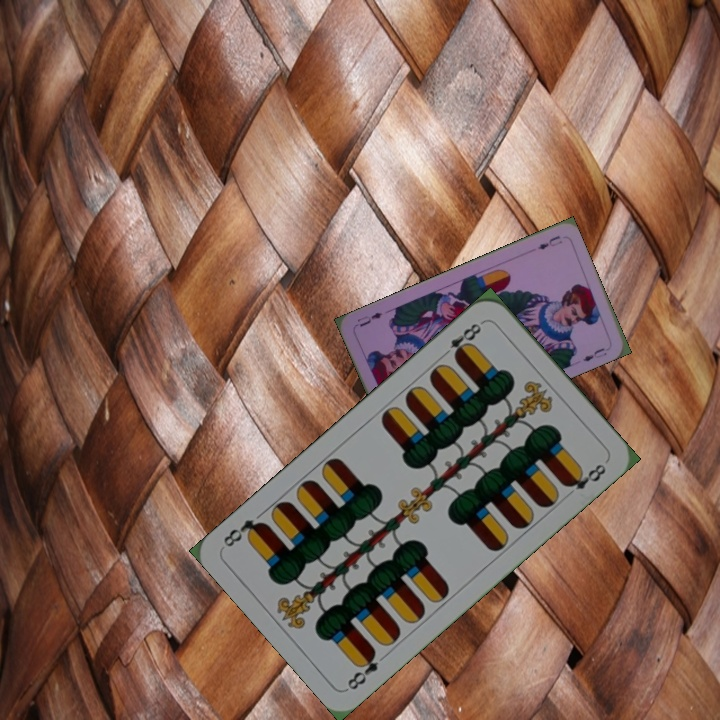E8: (437, 317, 487, 362), (343, 645, 381, 693)
EU: (533, 231, 565, 252)
